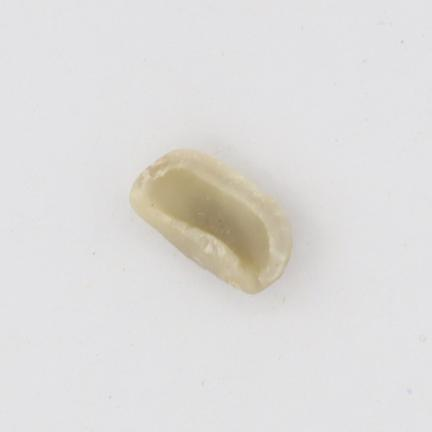shell: (130, 150, 291, 293)
